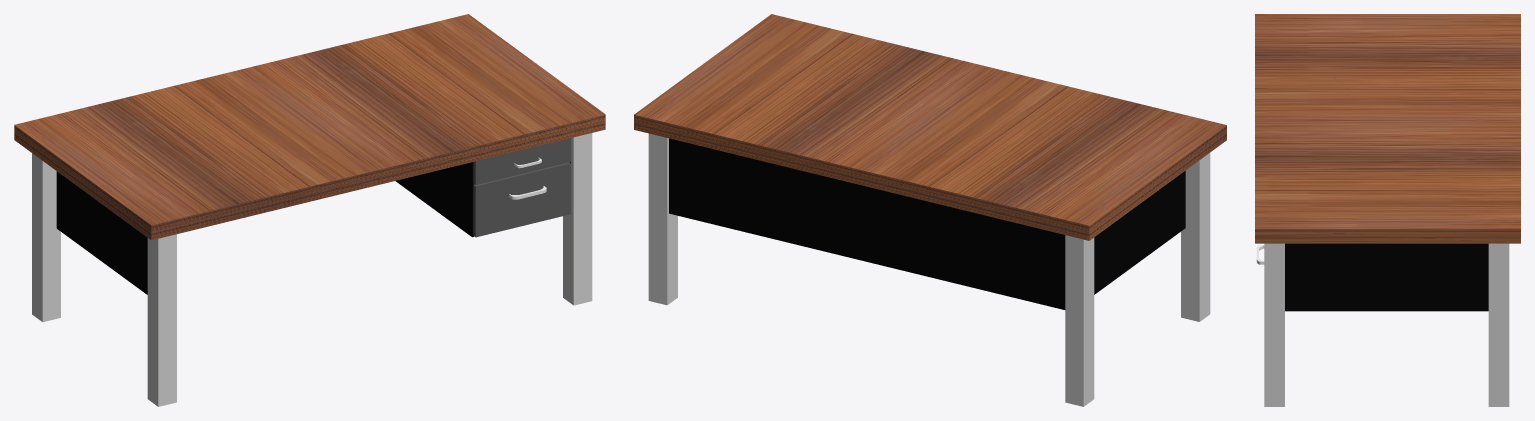
The model's file is study_desk.glb.
The picture shows the model from 3 angles, left to right: view 1: azimuth 30°, elevation 25°; view 2: azimuth 150°, elevation 25°; view 3: azimuth 270°, elevation 25°; orthographic projection. The views are drawn at different scales.
Parts seen in each view (by area): view 1: Object_7, Object_2, Object_3, Object_4, Object_6; view 2: Object_7, Object_3, Object_2; view 3: Object_7, Object_3, Object_2.
Boxes of the visible parts, x1=… form: Object_7: x1=14, y1=14, x2=605, y2=240; Object_2: x1=32, y1=133, x2=592, y2=406; Object_3: x1=56, y1=162, x2=570, y2=294; Object_4: x1=473, y1=162, x2=570, y2=237; Object_6: x1=473, y1=138, x2=570, y2=184; Object_7: x1=634, y1=14, x2=1226, y2=240; Object_3: x1=669, y1=138, x2=1185, y2=309; Object_2: x1=648, y1=133, x2=1210, y2=406; Object_7: x1=1255, y1=14, x2=1520, y2=243; Object_3: x1=1285, y1=243, x2=1488, y2=311; Object_2: x1=1264, y1=243, x2=1509, y2=406.
Bounding box in the file's own units: 5.22 × 2.06 × 2.73.
6 materials, 1 textured.
